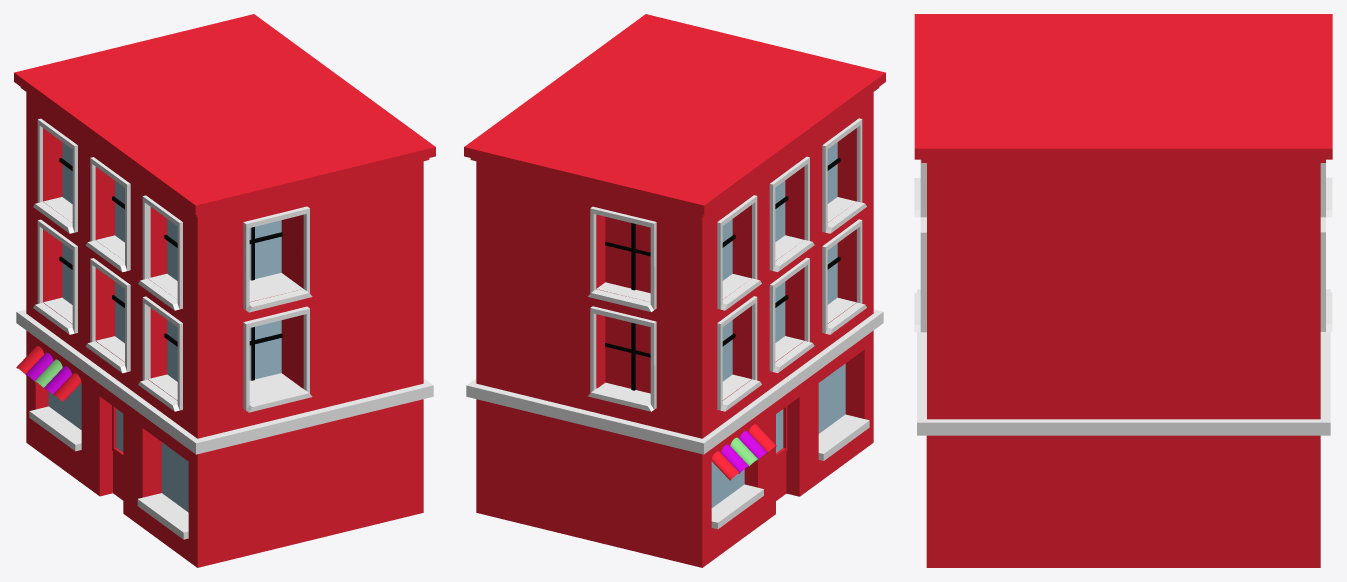
File: Haus02.fbx
The picture shows the model from 3 angles, left to right: view 1: azimuth 30°, elevation 25°; view 2: azimuth 150°, elevation 25°; view 3: azimuth 270°, elevation 25°; orthographic projection. The views are drawn at different scales.
Parts seen in each view (by area): view 1: Cube; view 2: Cube; view 3: Cube.
Part boxes in pixels (left/top/right/bottom): Cube: left=14, top=14, right=435, bottom=567; Cube: left=464, top=14, right=885, bottom=567; Cube: left=914, top=14, right=1332, bottom=567.
Size of the model in its own units: 383 by 529 by 475.
